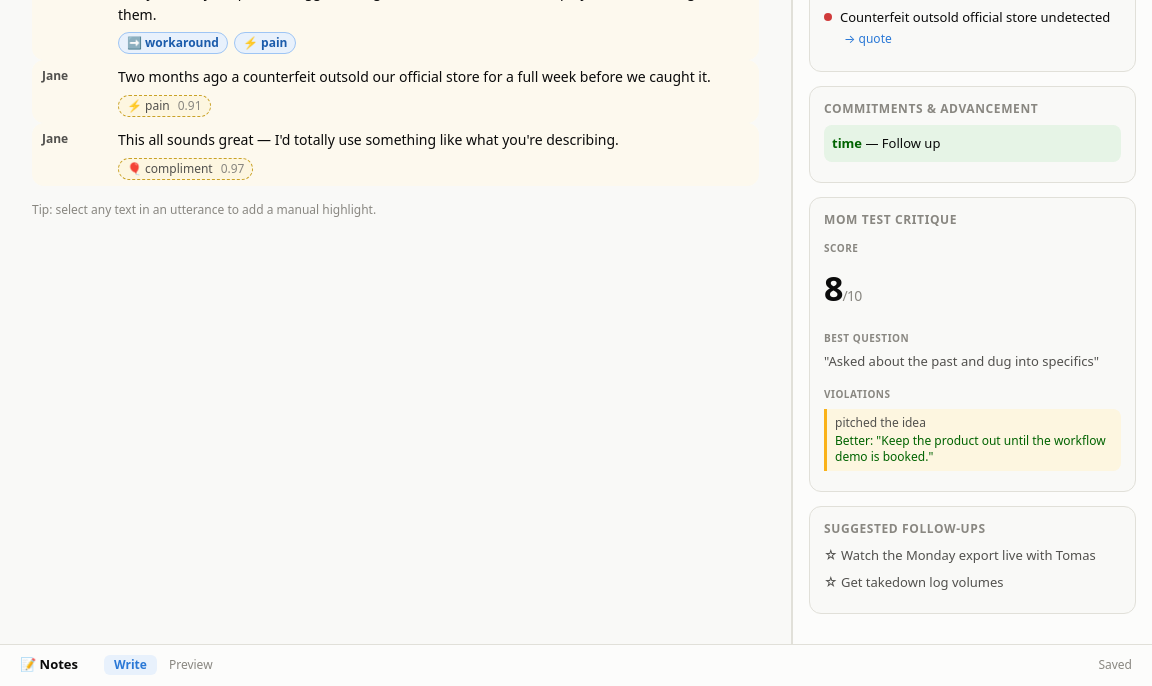
Test: Notes panel › 409 conflict shows "someone else edited" banner with reload option
(page scrolled)
Click the text "📝 Notes" at (49, 665), box x1=20 y1=654 x2=78 y2=675
(page scrolled)
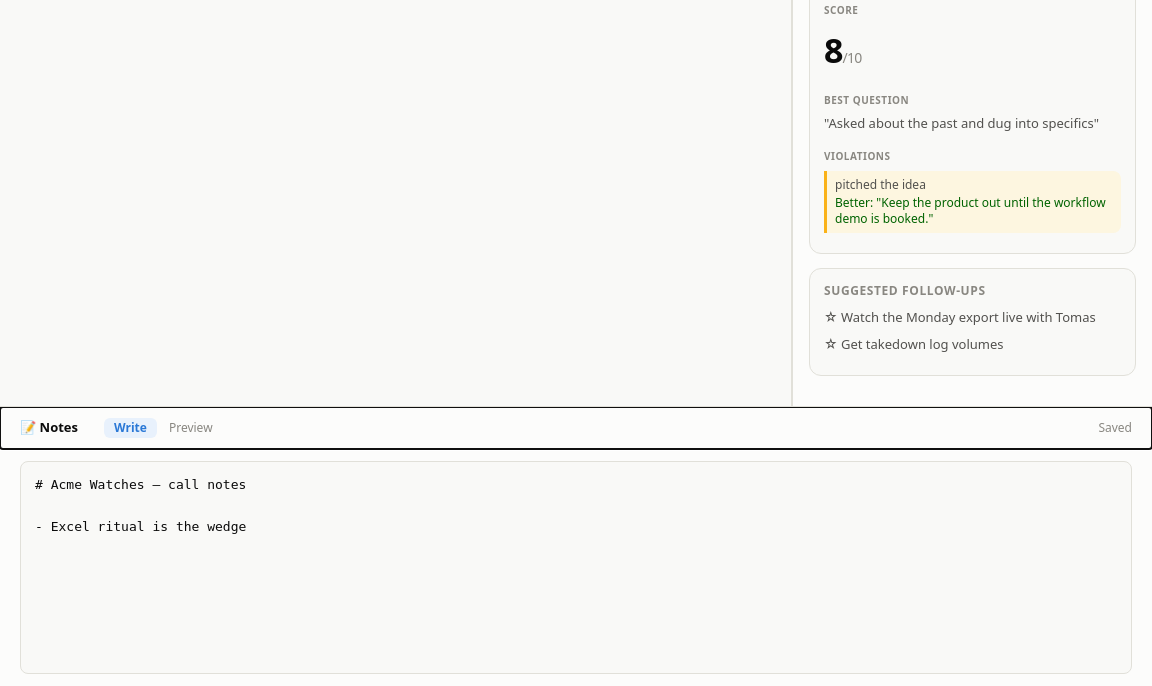
Check: the text box is shown
Type " edited" into the text box at (576, 567), box x1=20 y1=461 x2=1132 y2=674
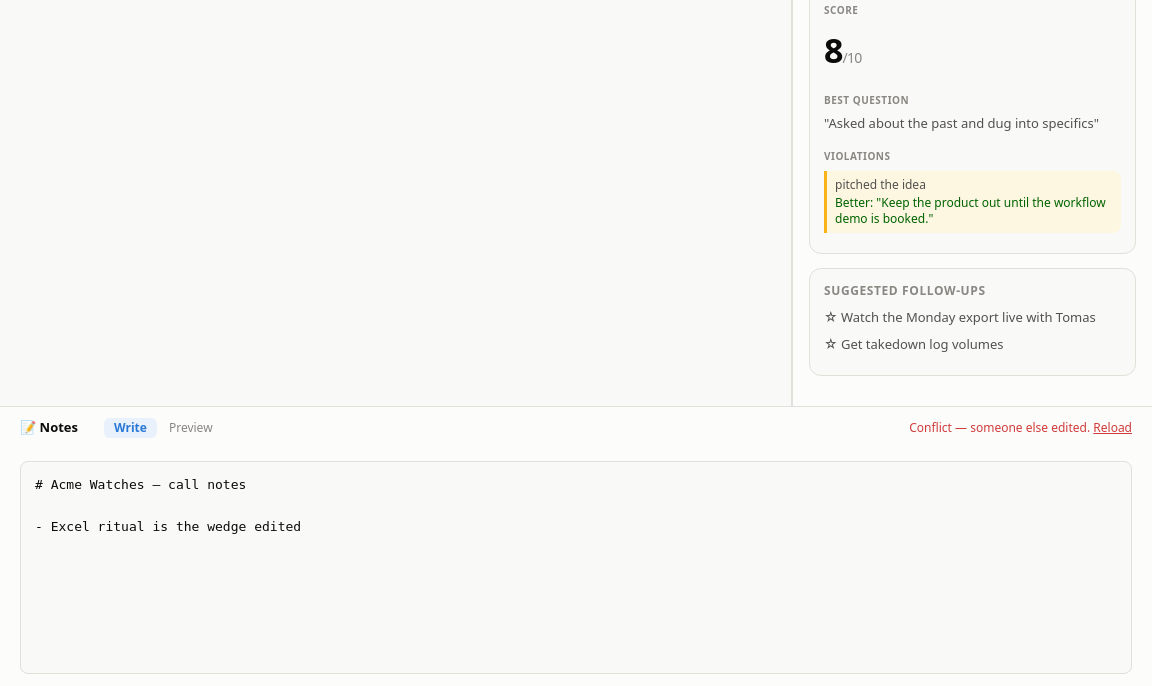
Check: the text "Conflict — someone else edited. Reload" is shown, box x1=909 y1=419 x2=1132 y2=436
Check: the button "Reload" is shown, box x1=1093 y1=420 x2=1132 y2=436
